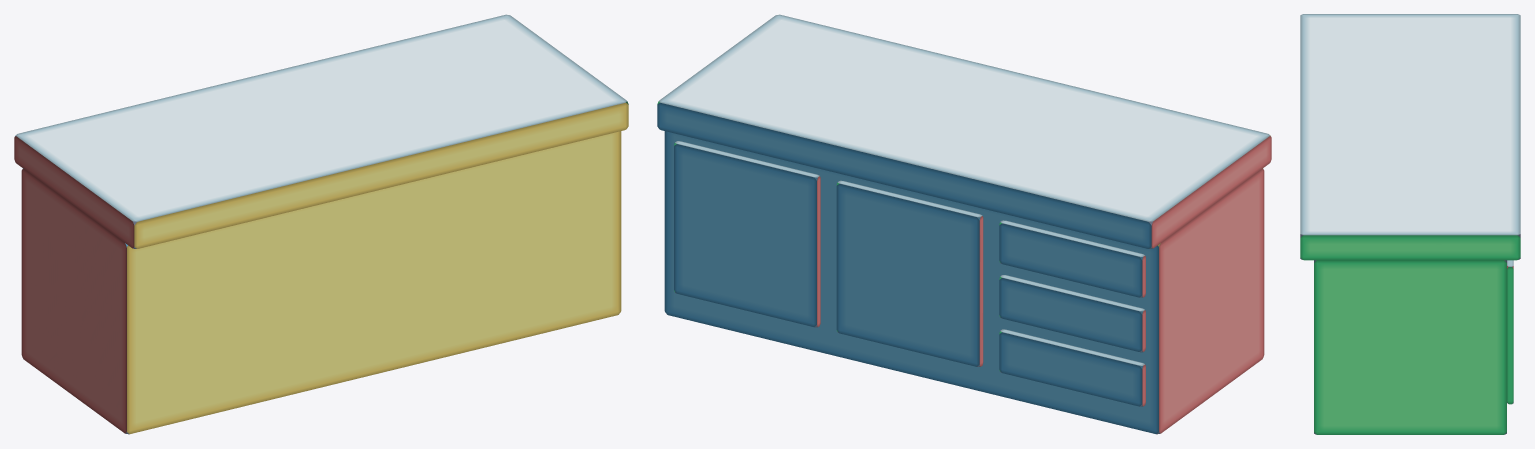
File: counter.obj
The picture shows the model from 3 angles, left to right: view 1: azimuth 30°, elevation 25°; view 2: azimuth 150°, elevation 25°; view 3: azimuth 270°, elevation 25°; orthographic projection. The views are drawn at different scales.
Parts seen in each view (by area): view 1: base, board; view 2: board, cuboid, base; view 3: board, base, cuboid.
Part boxes in pixels (x1,y1,x2,y2): base: (21, 131, 621, 434); board: (14, 14, 628, 248); board: (657, 14, 1271, 248); cuboid: (674, 141, 1145, 406); base: (664, 131, 1264, 434); board: (1300, 14, 1520, 260); base: (1314, 260, 1506, 434); cuboid: (1507, 260, 1513, 404).
Bounding box in the file's own units: 2.38 × 1 × 1.
Materials: 1 (1 with a texture image).
